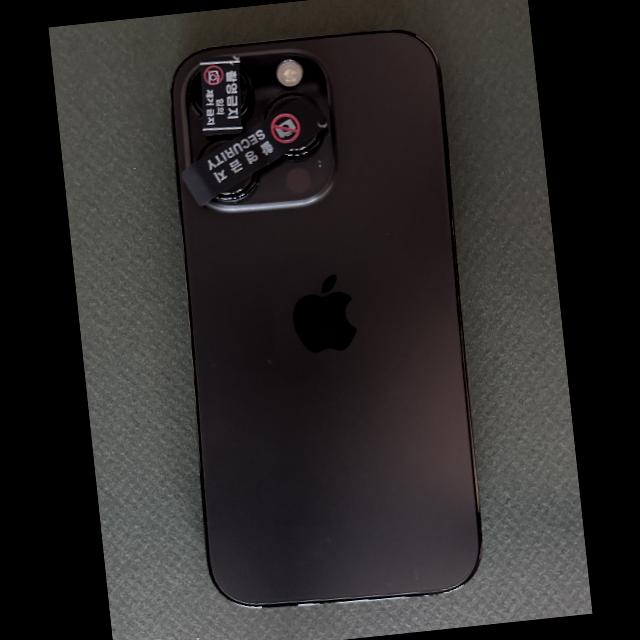lens: (217, 171, 259, 201), (285, 129, 328, 157), (240, 67, 252, 115)
phone: (171, 31, 481, 607)
sticker: (179, 90, 329, 205), (198, 56, 242, 135)
